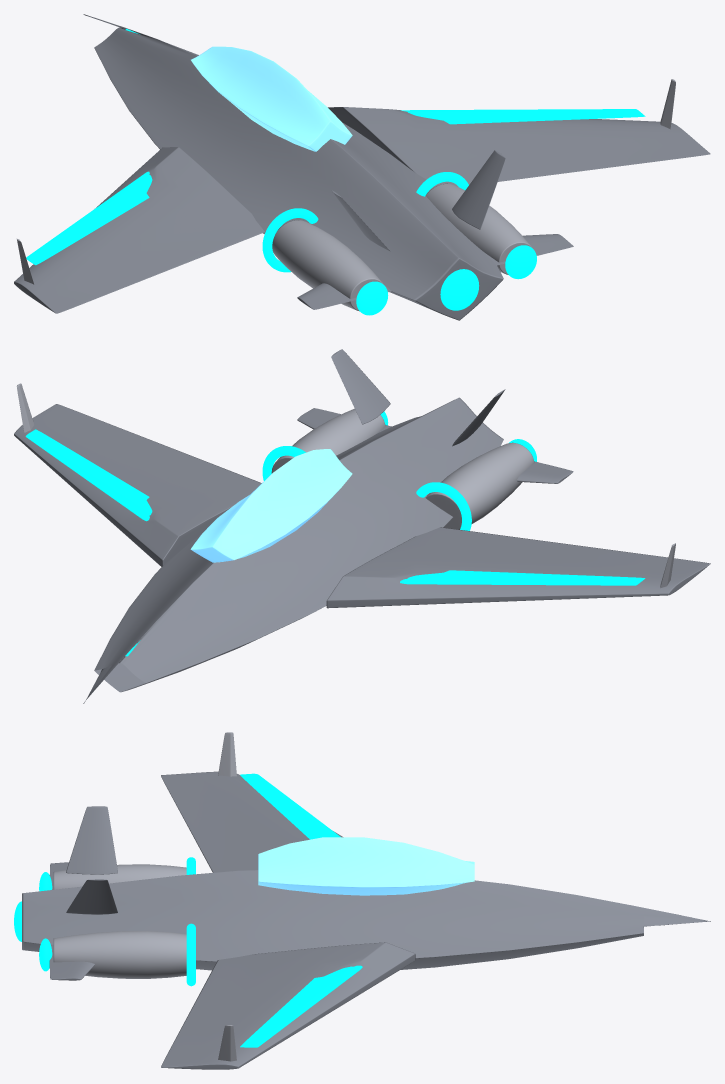
Rendered from ship_tier3_corsair.glb.
3 views of the same model, one above another, from view 1: azimuth 30°, elevation 25°; view 2: azimuth 150°, elevation 25°; view 3: azimuth 270°, elevation 25° (orthographic). The views are drawn at different scales.
Visible parts, largest first — view 1: Ship_Corsair; view 2: Ship_Corsair; view 3: Ship_Corsair.
Boxes of the visible parts, x1,y1,x2,y2 form: Ship_Corsair: [14, 14, 710, 320]; Ship_Corsair: [14, 349, 710, 703]; Ship_Corsair: [14, 732, 710, 1069].
Size of the model in its own units: 1.77 by 0.3851 by 1.77.
